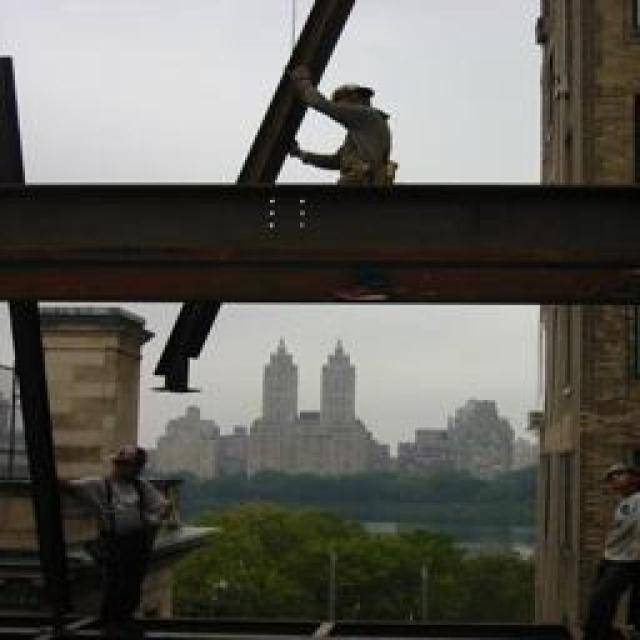Helmet: (84, 461, 170, 560), (332, 108, 407, 193), (592, 490, 640, 585), (318, 60, 386, 120), (105, 425, 159, 483), (585, 446, 640, 500)
